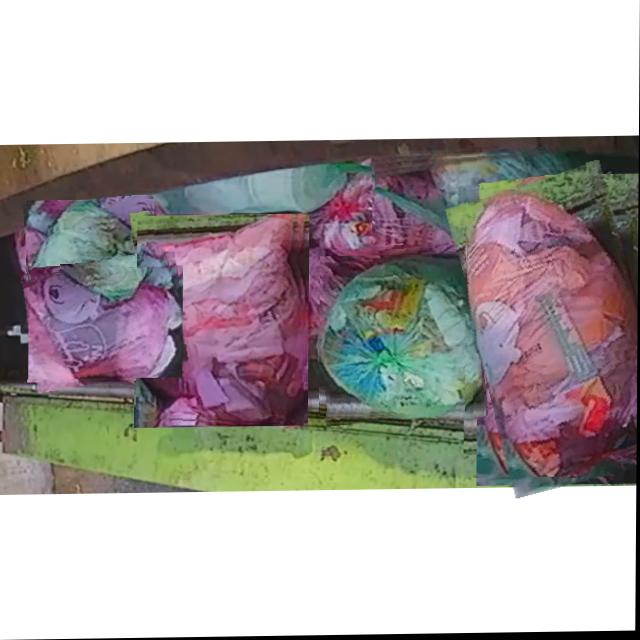general_trashbag: (321, 257, 481, 416), (374, 152, 585, 245), (28, 203, 155, 293)
other_trashbag: (466, 191, 638, 479), (138, 215, 304, 426), (22, 271, 182, 377)
